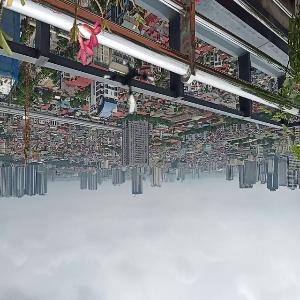drone: (100, 58, 158, 116)
